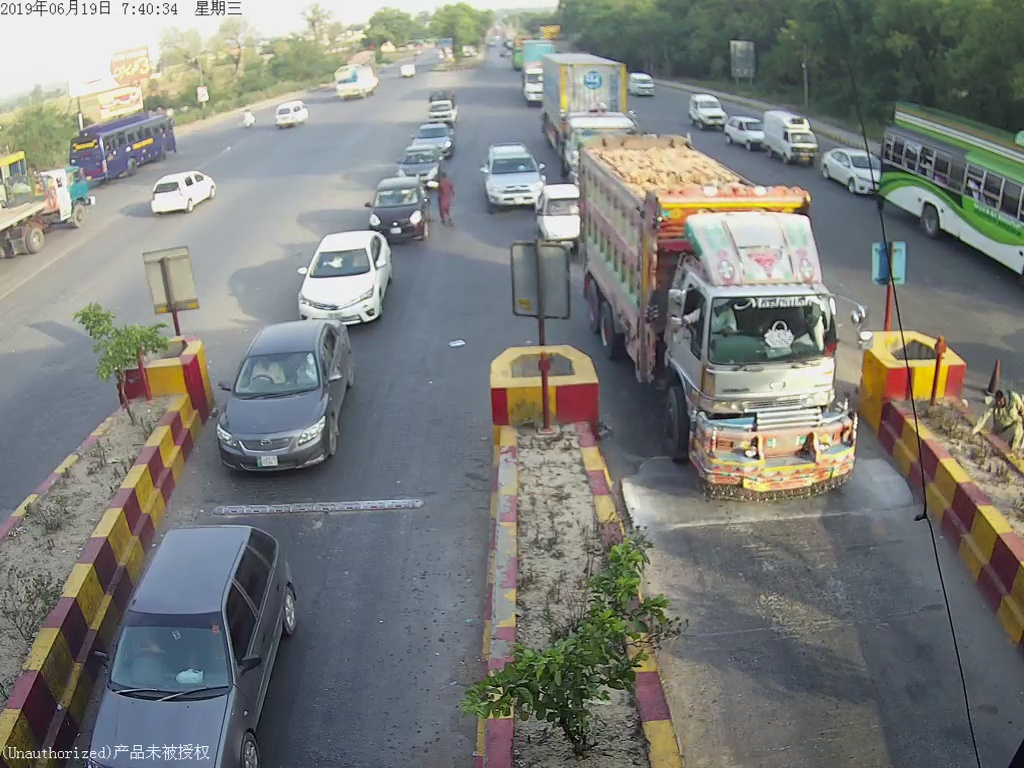Cat-1: (209, 323, 355, 476), (295, 227, 397, 325)
Cat-4: (577, 141, 872, 518)
